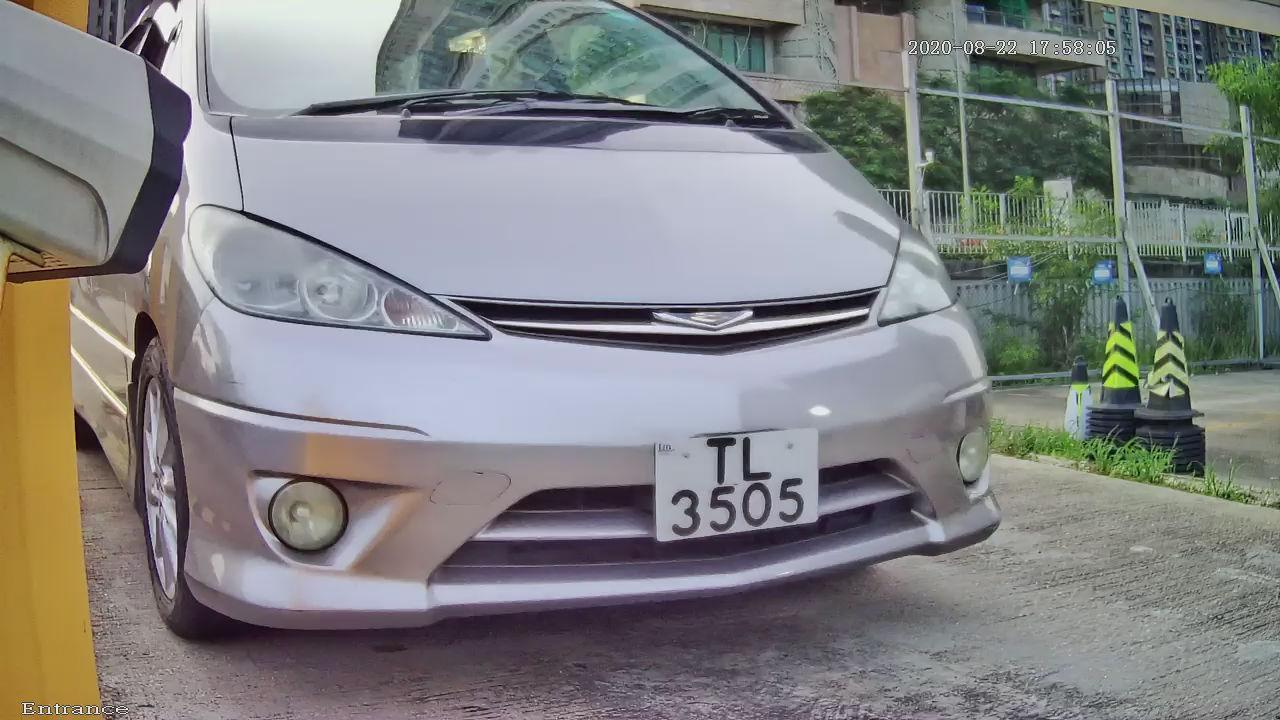Car: (41, 1, 1081, 682)
License Plate: (629, 415, 841, 553)
